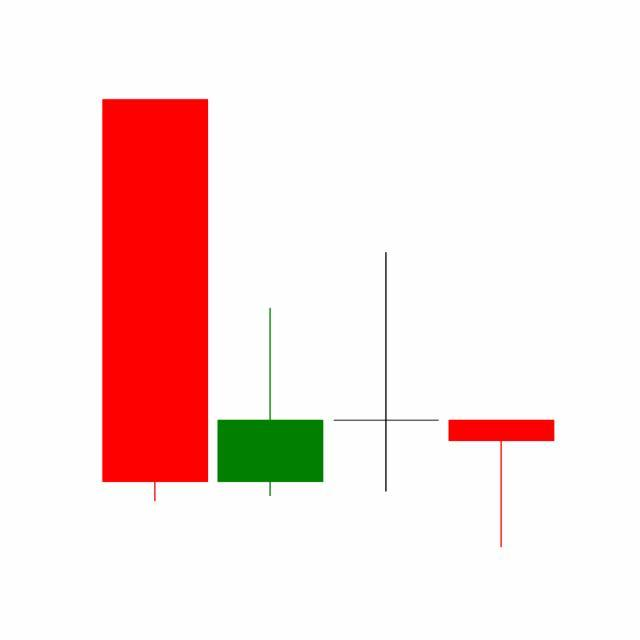Dragonfly Doji: (444, 419, 560, 550)
